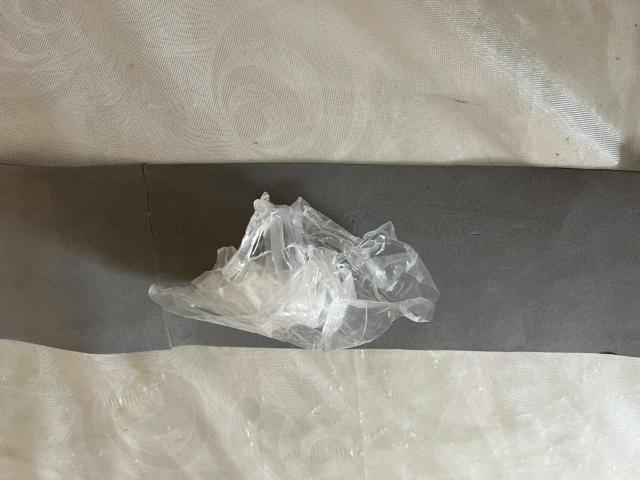LDPE: (104, 150, 489, 411)
